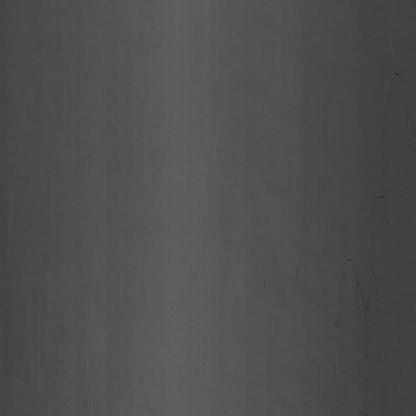inclusion: (391, 57, 415, 163), (354, 269, 380, 345), (372, 191, 392, 205), (335, 310, 344, 326), (343, 251, 353, 264), (338, 335, 344, 349)
